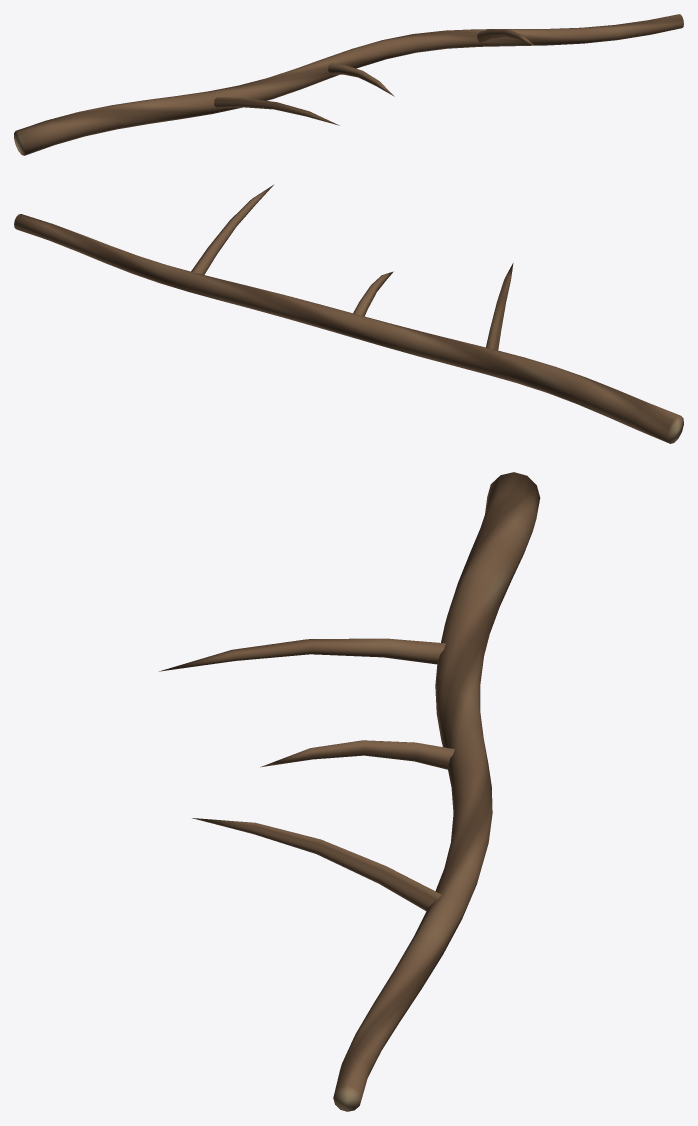
File: Twig_A.fbx
3 renders of one model, top to bottom at view 1: azimuth 30°, elevation 25°; view 2: azimuth 150°, elevation 25°; view 3: azimuth 270°, elevation 25°, orthographic. The views are drawn at different scales.
Visible parts, largest first — view 1: Twig_A; view 2: Twig_A; view 3: Twig_A.
Boxes of the visible parts, x1,y1,x2,y2 form: Twig_A: (14,14,683,155); Twig_A: (14,185,683,443); Twig_A: (159,472,540,1111).
Bounding box in the file's own units: 14.1 × 1.37 × 3.74.
